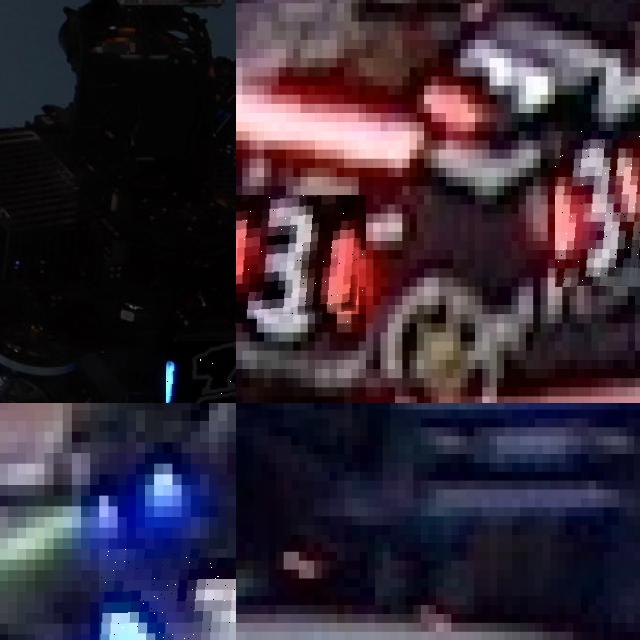B3: (99, 549, 236, 640)
Bs: (166, 341, 236, 403)
R3: (236, 195, 365, 323), (555, 131, 640, 286)
